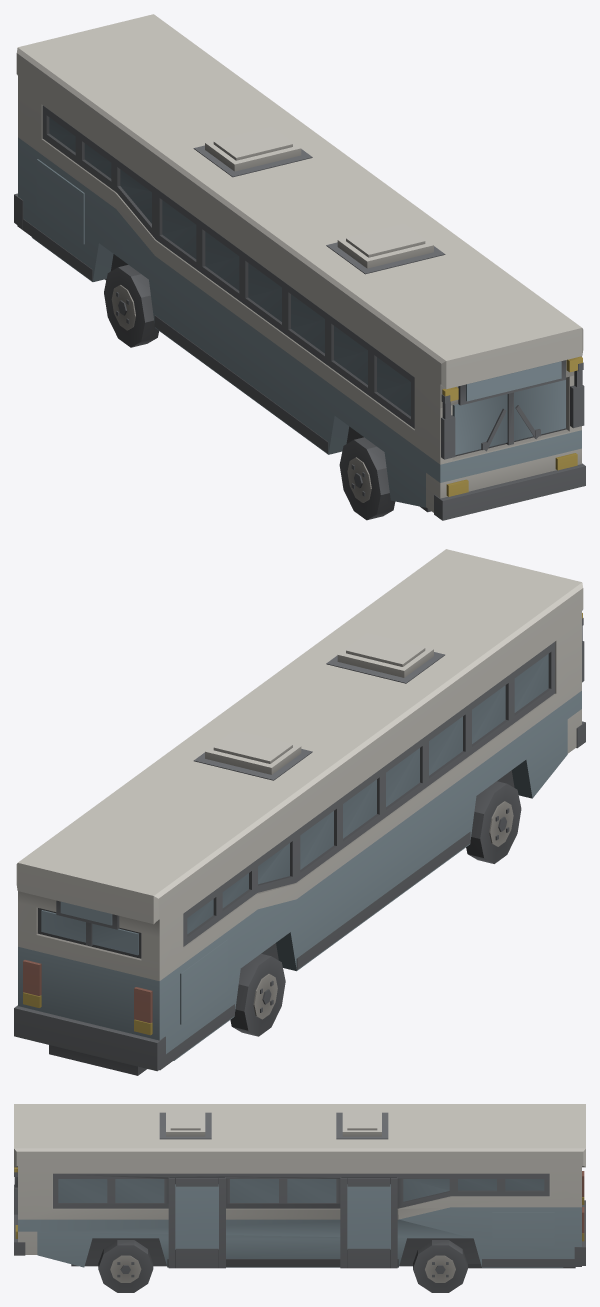
Rendered from bus.glb.
3 renders of one model, top to bottom at view 1: azimuth 30°, elevation 25°; view 2: azimuth 150°, elevation 25°; view 3: azimuth 270°, elevation 25°, orthographic. The views are drawn at different scales.
Parts seen in each view (by area): view 1: bus; view 2: bus; view 3: bus.
Part boxes in pixels (left/top/right/bottom): bus: left=14, top=14, right=585, bottom=520; bus: left=14, top=549, right=585, bottom=1075; bus: left=14, top=1104, right=585, bottom=1292.
Bounding box in the file's own units: 2.18 × 3.2 × 11.
